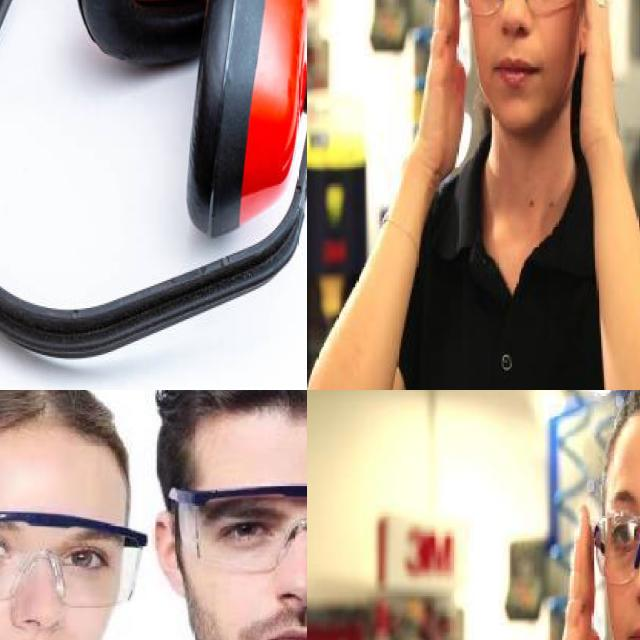Ear-protection: (0, 0, 307, 379)
face_nomask: (0, 511, 116, 640), (207, 503, 307, 640), (467, 0, 571, 103), (602, 517, 640, 640)
glasses: (0, 511, 148, 609), (169, 479, 307, 573), (589, 499, 640, 592), (454, 0, 586, 23)
hand_noglove: (573, 0, 625, 165), (423, 0, 470, 170), (558, 496, 605, 640)
head_nohelmet: (0, 390, 122, 463), (171, 390, 307, 441), (601, 390, 640, 471)
person: (374, 0, 640, 390), (509, 390, 640, 640)
